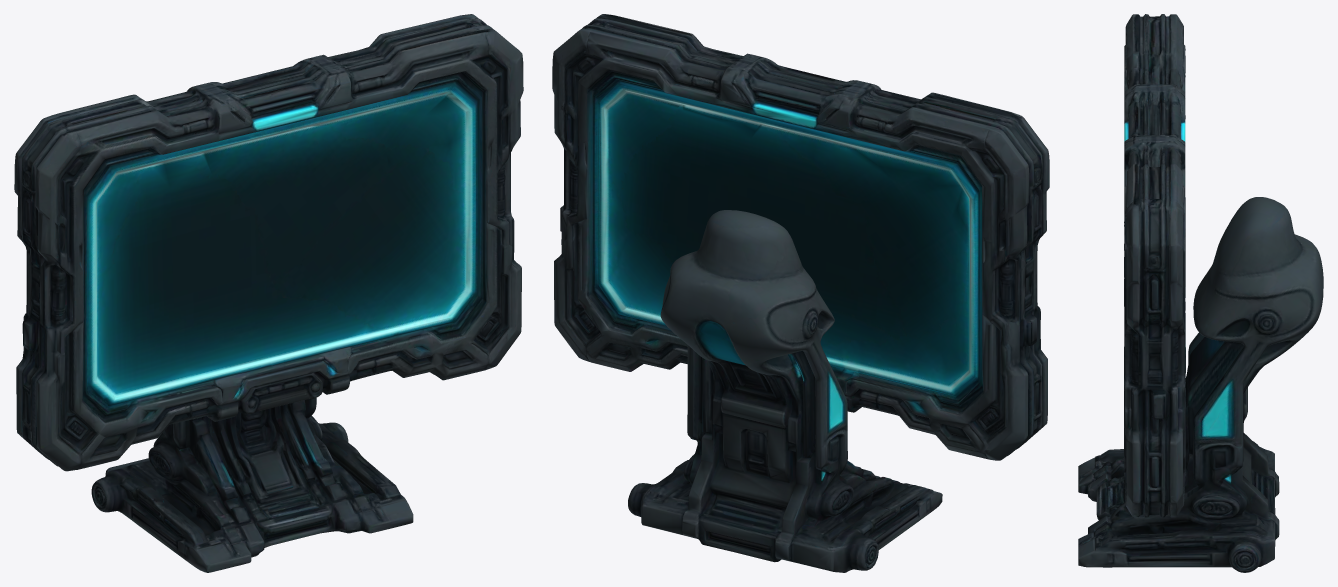
Rendered from monitor.min.glb.
3 views of the same model, side by side, from view 1: azimuth 30°, elevation 25°; view 2: azimuth 150°, elevation 25°; view 3: azimuth 270°, elevation 25° (orthographic). The views are drawn at different scales.
Parts seen in each view (by area): view 1: node_0; view 2: node_0; view 3: node_0.
Boxes of the visible parts, bbox=[...] form: node_0: bbox=[14, 14, 523, 572]; node_0: bbox=[552, 14, 1049, 572]; node_0: bbox=[1078, 14, 1323, 572].
Bounding box in the file's own units: 0.9384 × 0.8261 × 0.4452.
1 material, 1 textured.
